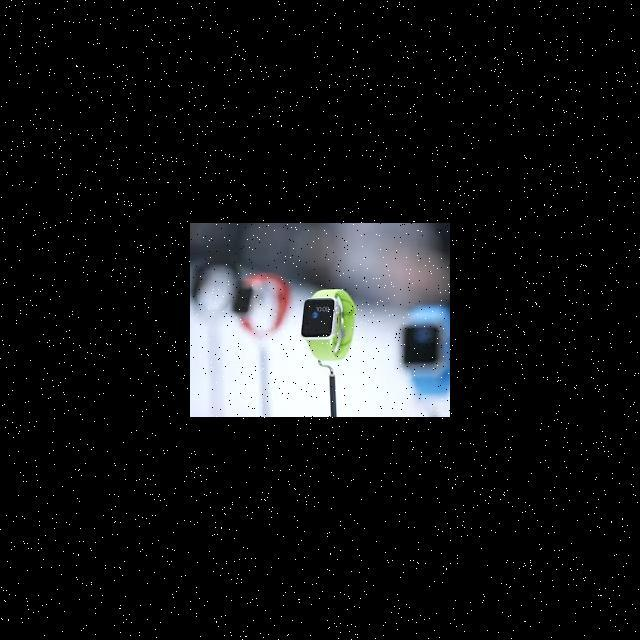watch: (298, 275, 365, 353)
